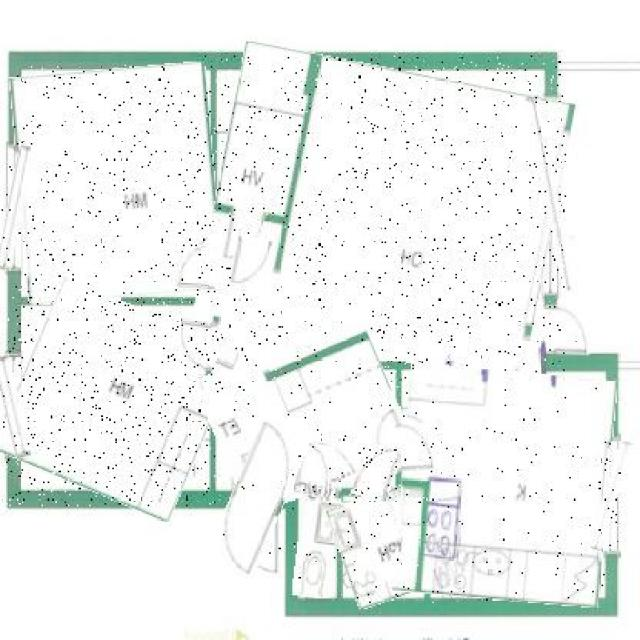door: (215, 420, 297, 583), (174, 312, 220, 376), (355, 444, 397, 502), (397, 424, 440, 474), (232, 237, 270, 292), (297, 443, 334, 497), (551, 308, 591, 355), (177, 246, 218, 289)
window: (536, 95, 566, 292), (0, 146, 26, 272), (600, 440, 628, 552), (0, 354, 25, 455)
zone: (205, 55, 563, 368), (397, 368, 612, 603), (14, 65, 218, 302), (6, 292, 225, 506), (208, 338, 406, 502), (334, 490, 431, 604), (296, 486, 338, 599)
